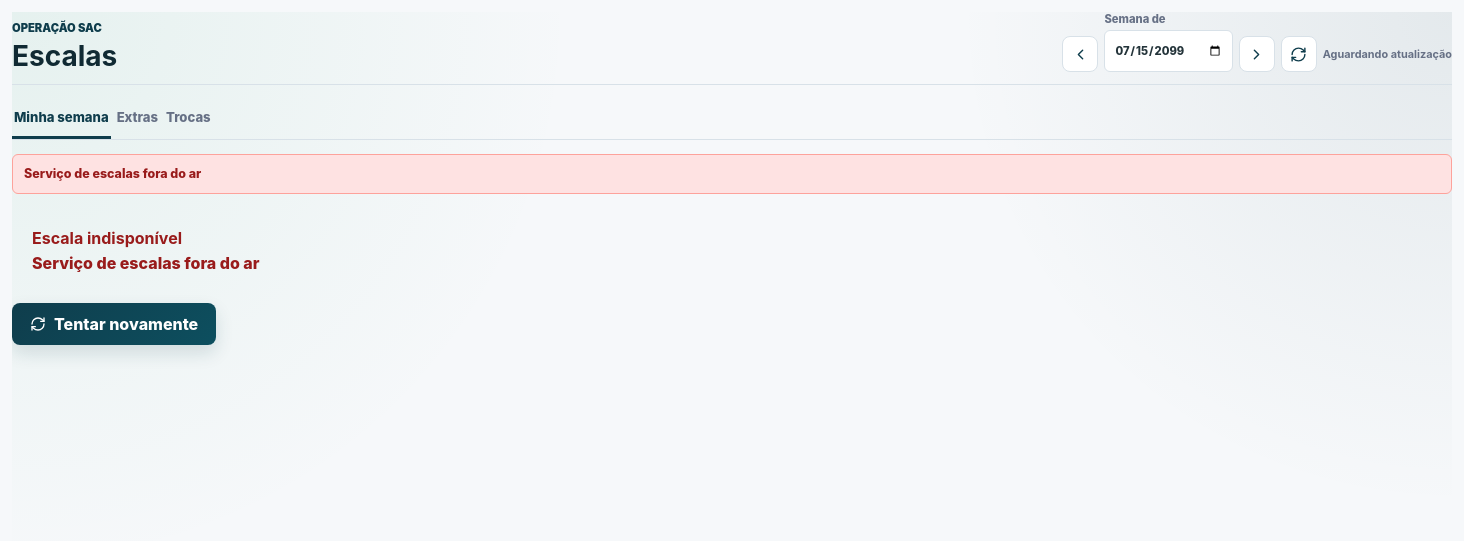
SupportSchedulesView › keeps the active tab controlling the retry panel after a calendar failure and recovers on retry
Expected: the text "Escala indisponível" is shown, left=32, top=228, right=182, bottom=248
Expected: the panel with id "support-schedules-week-panel" is shown, left=12, top=228, right=260, bottom=345
Click the button "Tentar novamente" at (114, 324), box left=12, top=303, right=216, bottom=345
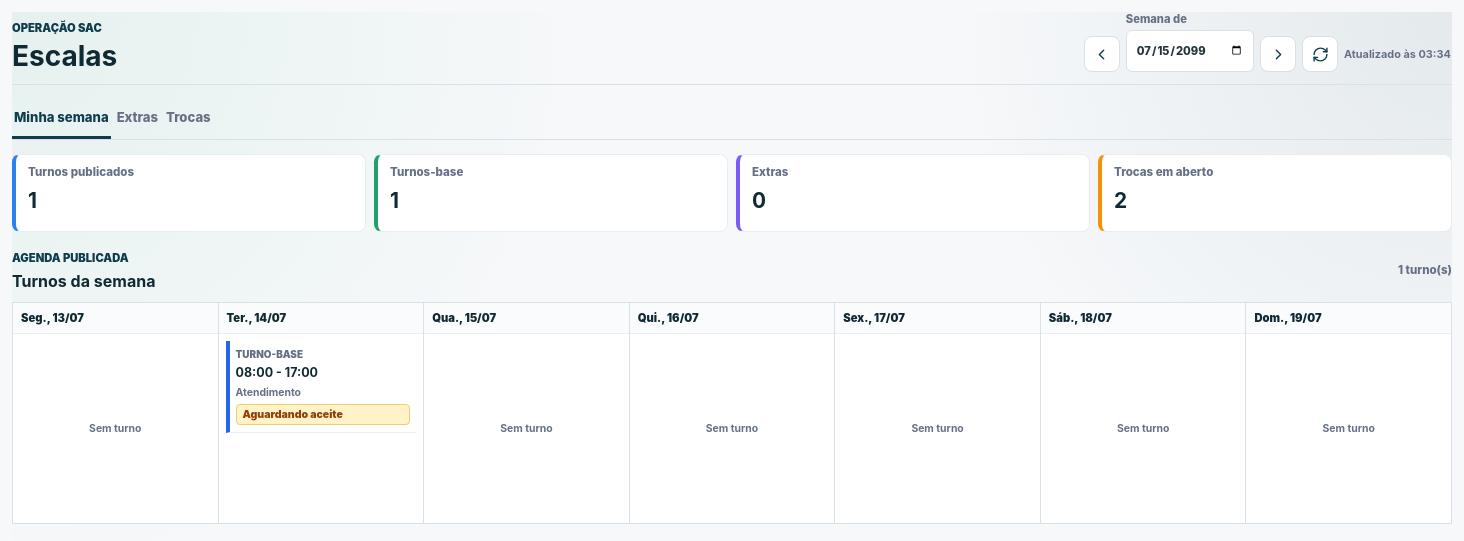
Expected: the heading "Turnos da semana" is shown, left=12, top=271, right=155, bottom=291
